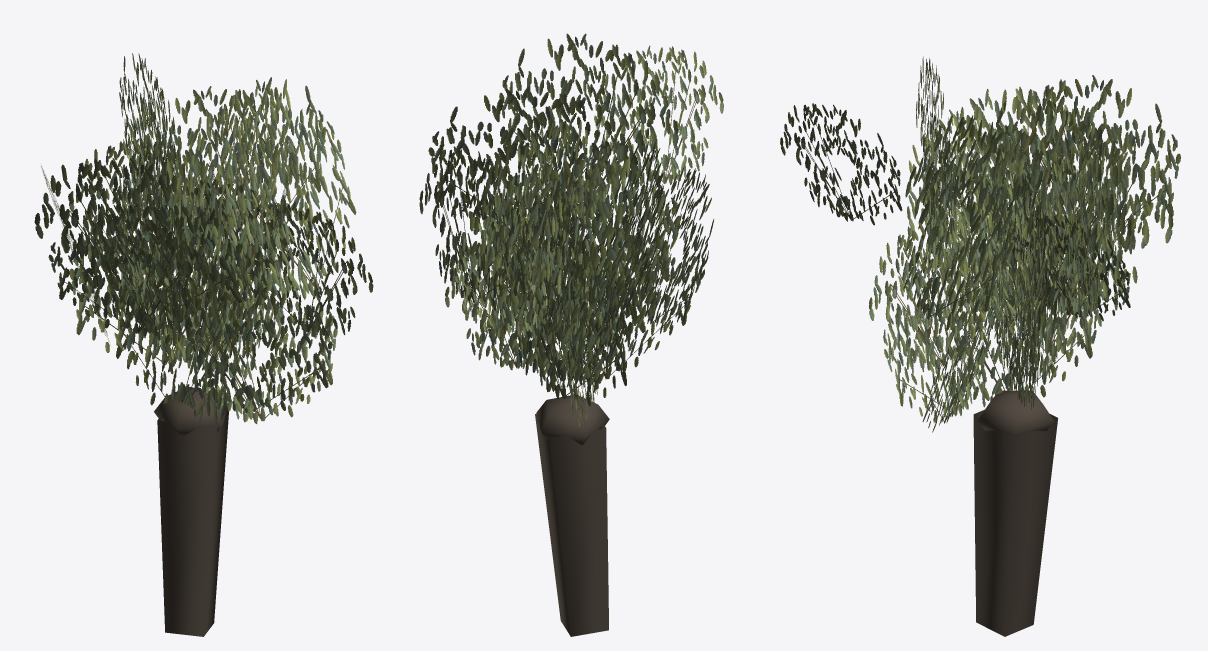
File: tpl_pollards_meadow_pollard_lo.glb
3 renders of one model, left to right at view 1: azimuth 30°, elevation 25°; view 2: azimuth 150°, elevation 25°; view 3: azimuth 270°, elevation 25°, orthographic. The views are drawn at different scales.
Parts seen in each view (by area): view 1: tpl_pollards_meadow_pollard_lo; view 2: tpl_pollards_meadow_pollard_lo; view 3: tpl_pollards_meadow_pollard_lo.
Boxes of the visible parts, x1,y1,x2,y2 form: tpl_pollards_meadow_pollard_lo: [34, 53, 373, 636]; tpl_pollards_meadow_pollard_lo: [419, 33, 723, 636]; tpl_pollards_meadow_pollard_lo: [780, 56, 1180, 636].
Size of the model in its own units: 4.17 by 6.87 by 4.58.
2 materials, 1 textured.
